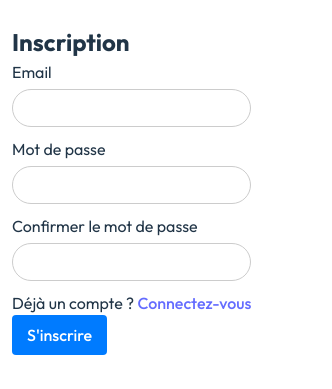
Test: submits the form successfully and stores the token
The image size is (332, 389).
In the field labelled "Email": (132, 108) [12, 88, 251, 126], type "test@example.com"
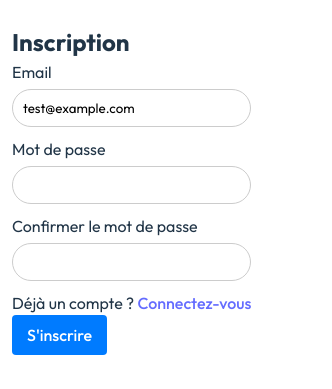
In the password field labelled "Mot de passe": (132, 184) [12, 166, 251, 204], type "password123"
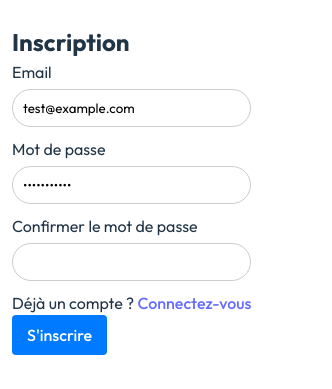
In the password field labelled "Confirmer le mot de passe": (132, 262) [12, 242, 251, 280], type "password123"
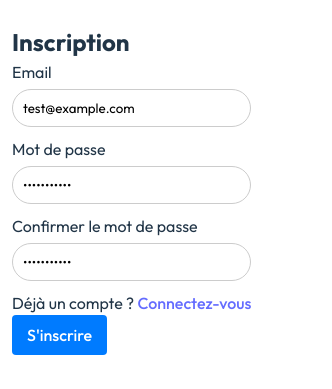
Click the button "S'inscrire": (60, 334) [12, 314, 107, 354]
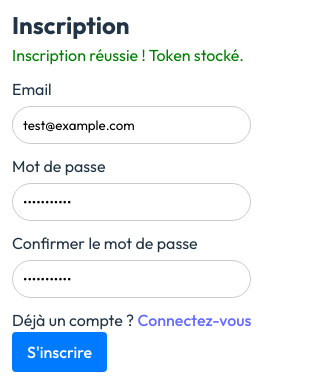
Expected: the text "Inscription réussie ! Token stocké." is shown, [12, 42, 251, 66]
